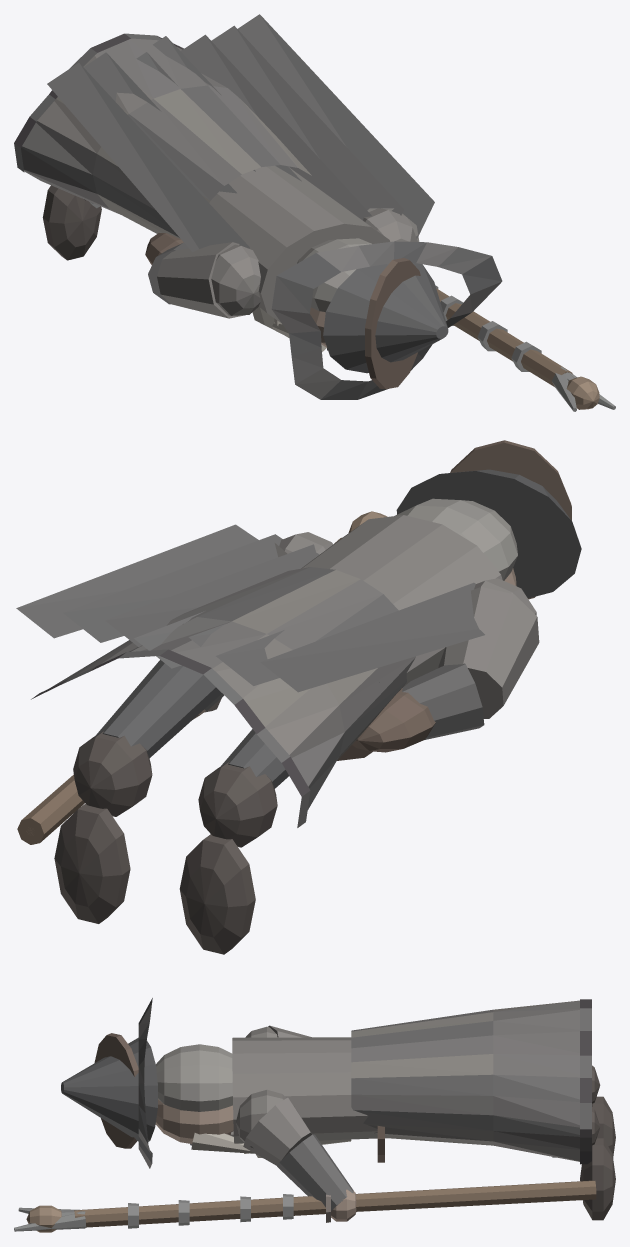
The model's file is wizard-fire-neutral.glb.
The picture shows the model from 3 angles, top to bottom: view 1: azimuth 30°, elevation 25°; view 2: azimuth 150°, elevation 25°; view 3: azimuth 270°, elevation 25°; orthographic projection. The views are drawn at different scales.
Visible parts, largest first — view 1: cape, robe, hat-brim, torso, hat-crown, shoulder, upper-arm, boot, hat-band, staff, hem, rear-hair (+4 smaller); view 2: cape, robe, boot, torso, hat-crown, leg, upper-arm, forearm, rear-hair, hat-band, hem, pouch (+2 smaller); view 3: robe, torso, staff, hat-crown, rear-hair, boot, forearm, upper-arm, face, hem, shoulder, hat-band (+6 smaller).
Part boxes in pixels (bbox=[...]): cape: bbox=[47, 14, 434, 252]; robe: bbox=[21, 38, 311, 238]; hat-brim: bbox=[271, 241, 502, 399]; torso: bbox=[209, 165, 390, 323]; hat-crown: bbox=[323, 263, 448, 373]; shoulder: bbox=[211, 208, 417, 315]; upper-arm: bbox=[157, 208, 419, 318]; boot: bbox=[42, 185, 101, 260]; hat-band: bbox=[365, 258, 420, 389]; staff: bbox=[436, 288, 572, 386]; hem: bbox=[14, 33, 183, 172]; rear-hair: bbox=[297, 238, 371, 312]; cape: bbox=[16, 524, 484, 692]; robe: bbox=[51, 567, 415, 809]; boot: bbox=[54, 731, 277, 954]; torso: bbox=[301, 515, 502, 687]; hat-crown: bbox=[396, 469, 581, 598]; leg: bbox=[94, 659, 379, 788]; upper-arm: bbox=[274, 543, 539, 718]; forearm: bbox=[204, 663, 484, 739]; rear-hair: bbox=[395, 498, 517, 580]; hat-band: bbox=[450, 440, 571, 599]; hem: bbox=[31, 649, 310, 827]; pouch: bbox=[352, 688, 435, 752]; robe: bbox=[351, 1000, 579, 1161]; torso: bbox=[232, 1037, 386, 1143]; staff: bbox=[74, 1180, 596, 1227]; hat-crown: bbox=[61, 1037, 157, 1141]; rear-hair: bbox=[155, 1044, 232, 1111]; boot: bbox=[552, 1065, 615, 1220]; forearm: bbox=[277, 1134, 353, 1210]; upper-arm: bbox=[243, 1025, 311, 1166]; face: bbox=[155, 1099, 233, 1143]; hem: bbox=[580, 999, 591, 1164]; shoulder: bbox=[236, 1026, 294, 1148]; hat-band: bbox=[94, 1033, 138, 1148].
Size of the model in its own units: 1.18 by 0.8595 by 2.5.
